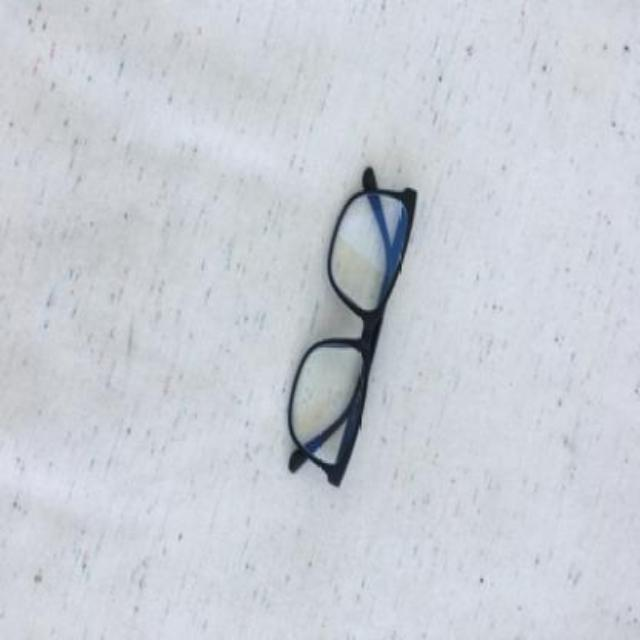mask: (287, 166, 417, 489)
